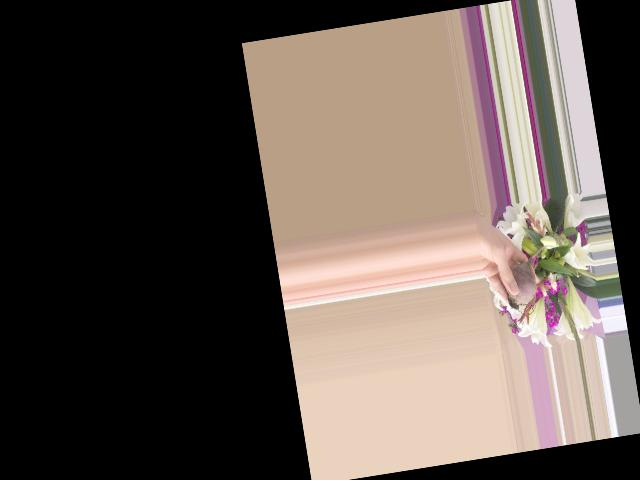beet: (499, 244, 562, 318)
